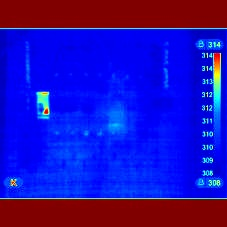Medium: (36, 92, 53, 122)
